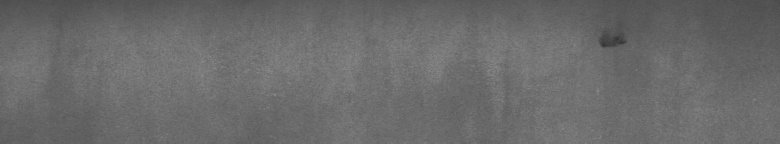fi: (596, 32, 627, 56)
